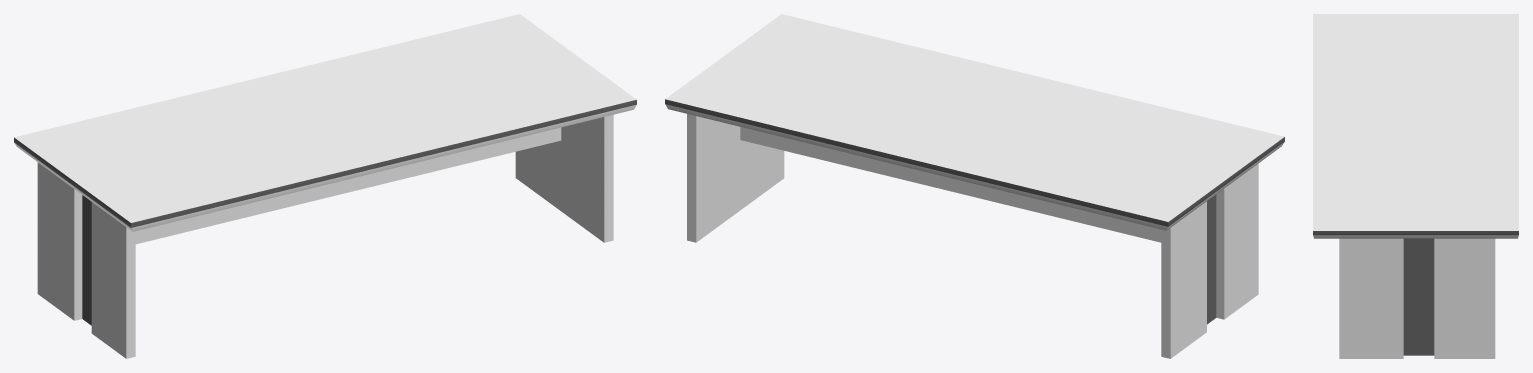
File: Table 1.FBX
3 renders of one model, left to right at view 1: azimuth 30°, elevation 25°; view 2: azimuth 150°, elevation 25°; view 3: azimuth 270°, elevation 25°, orthographic. The views are drawn at different scales.
Parts seen in each view (by area): view 1: Table 1; view 2: Table 1; view 3: Table 1.
Part boxes in pixels (box(x1,y1,x2,y2)): Table 1: box(14, 14, 636, 358); Table 1: box(665, 14, 1284, 358); Table 1: box(1313, 14, 1518, 358).
Size of the model in its own units: 304 by 122 by 86.03.
1 material, 1 textured.
